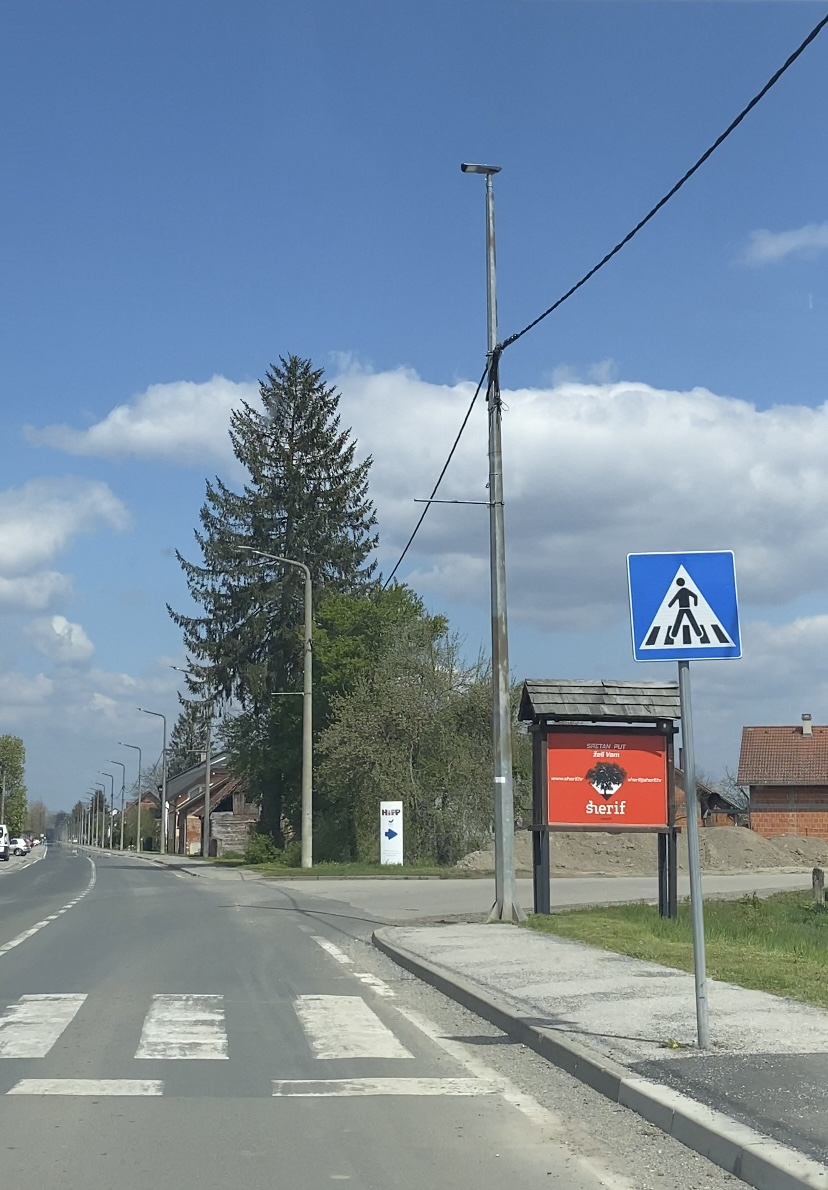Pješački prijelaz: (627, 550, 742, 662)
